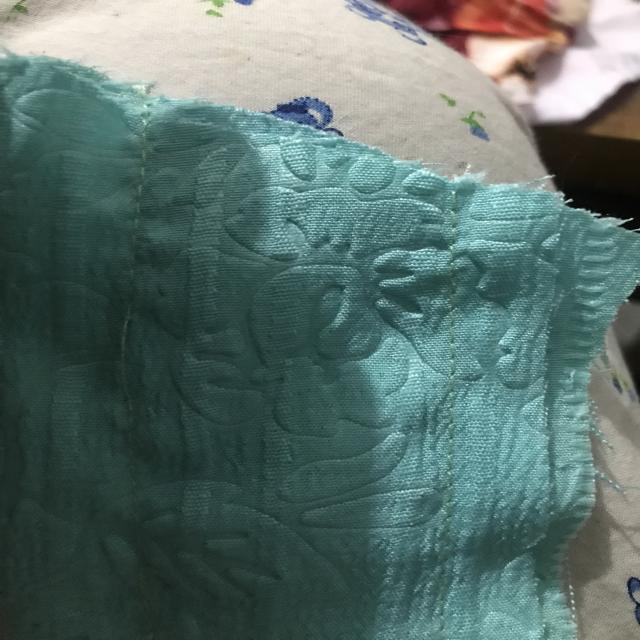good: (112, 148, 162, 242)
skip: (95, 294, 159, 420)
